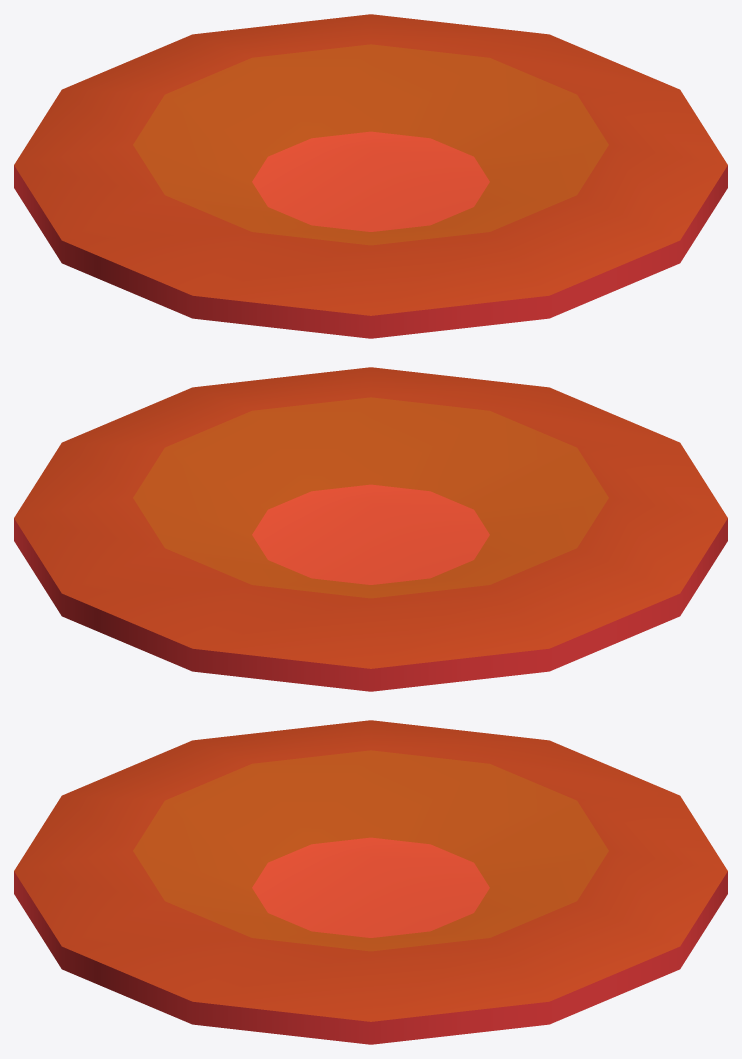
File: Cible.FBX
3 views of the same model, one above another, from view 1: azimuth 30°, elevation 25°; view 2: azimuth 150°, elevation 25°; view 3: azimuth 270°, elevation 25° (orthographic).
Parts seen in each view (by area): view 1: mm; view 2: mm; view 3: mm.
Boxes of the visible parts, left/top/right/bottom form: mm: left=14, top=14, right=727, bottom=338; mm: left=14, top=367, right=727, bottom=691; mm: left=14, top=720, right=727, bottom=1044.
Bounding box in the file's own units: 14.95 × 0.9935 × 14.95.
